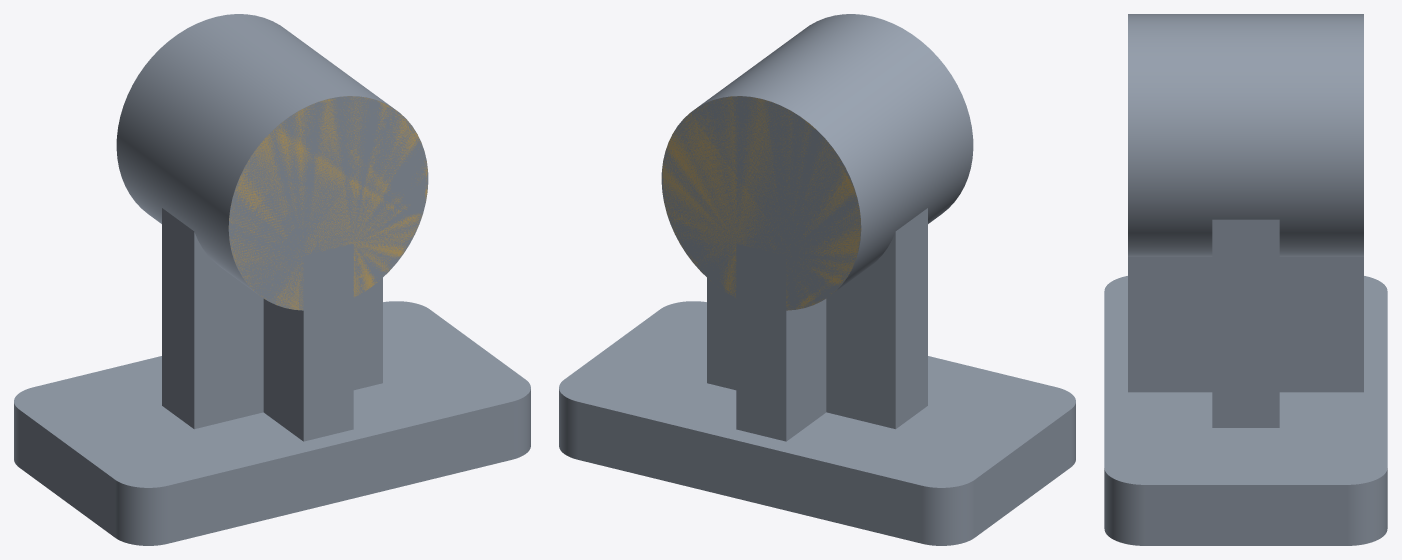
File: step_05.glb
3 views of the same model, side by side, from view 1: azimuth 30°, elevation 25°; view 2: azimuth 150°, elevation 25°; view 3: azimuth 270°, elevation 25° (orthographic). The views are drawn at different scales.
Parts seen in each view (by area): view 1: part__pedestal bearing, added__pedestal bearing; view 2: part__pedestal bearing, added__pedestal bearing; view 3: part__pedestal bearing.
Part boxes in pixels (bbox=[...]): part__pedestal bearing: bbox=[14, 14, 530, 545]; added__pedestal bearing: bbox=[228, 96, 427, 309]; part__pedestal bearing: bbox=[559, 14, 1075, 545]; added__pedestal bearing: bbox=[661, 96, 861, 310]; part__pedestal bearing: bbox=[1104, 14, 1387, 545].
Size of the model in its own units: 74 by 68 by 42.
